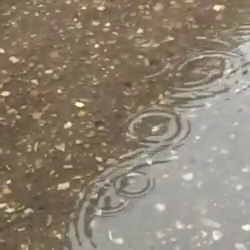drop: (124, 109, 191, 146), (85, 180, 130, 215), (116, 169, 154, 199), (127, 34, 153, 47)
